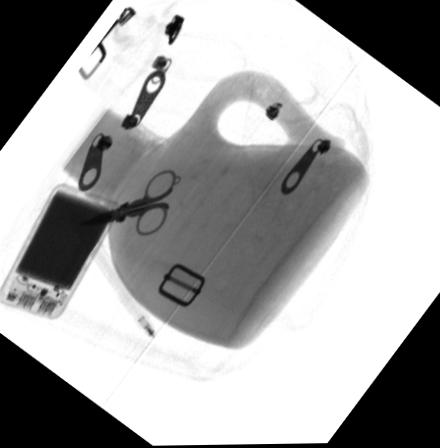Powerbank: (0, 179, 125, 321)
Scissors: (78, 166, 176, 240)
